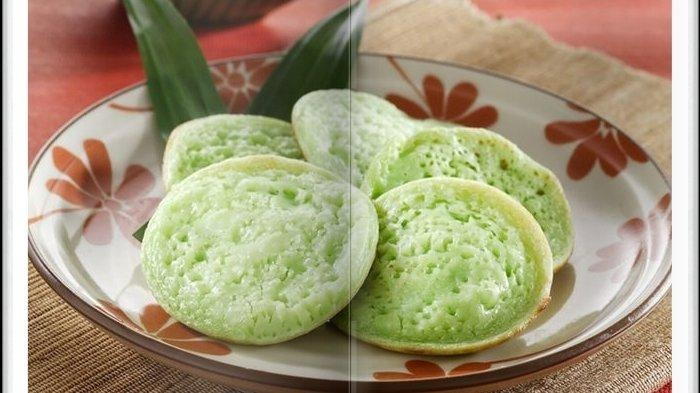srabi: (130, 128, 382, 338)
